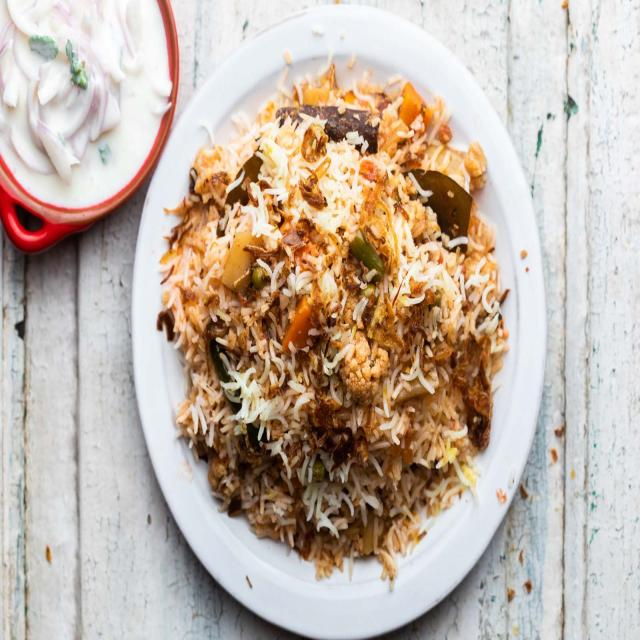chicken biryani: (201, 121, 483, 564)
